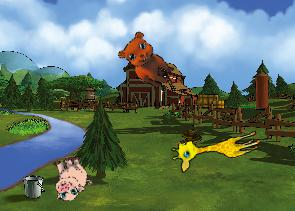bear: (113, 27, 183, 92)
giraffe: (168, 119, 263, 174)
pig: (45, 152, 94, 203)
